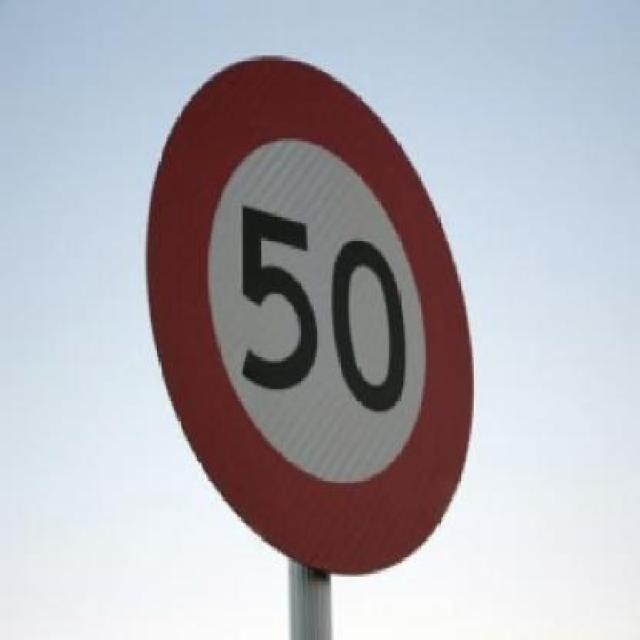forb_speed_over_50: (151, 58, 471, 574)
